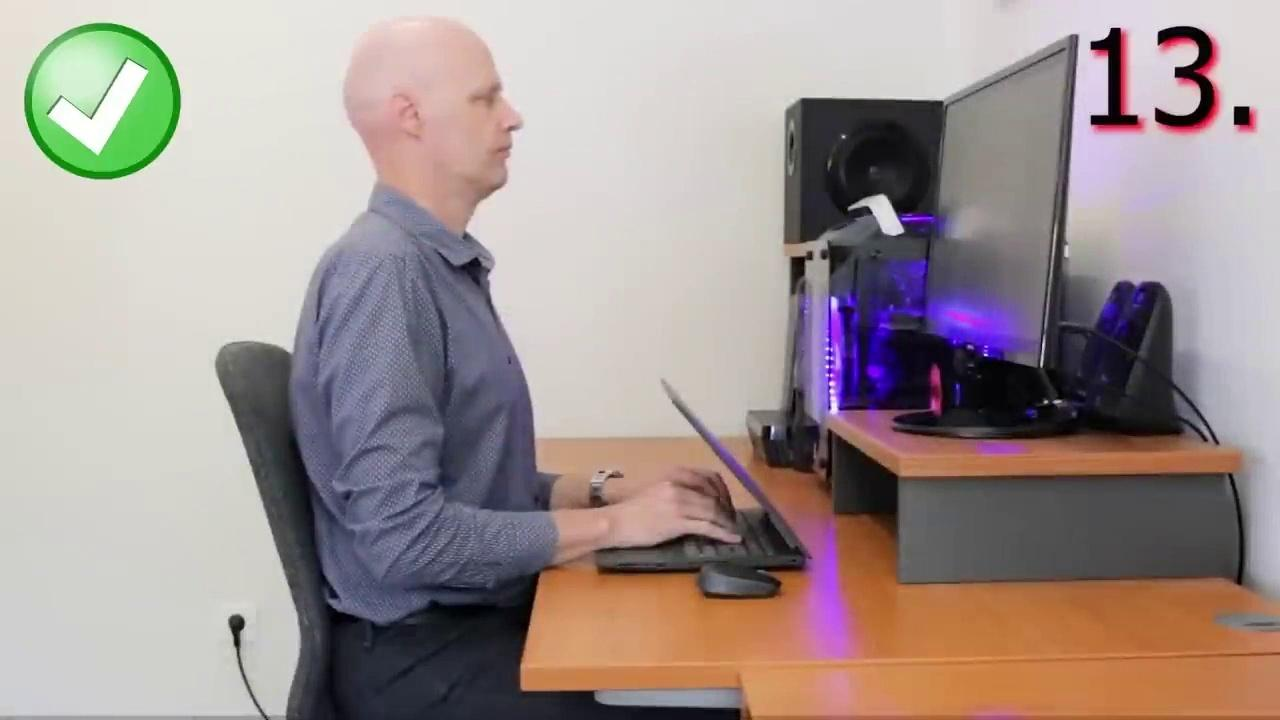GoodPosture: (292, 17, 737, 719)
